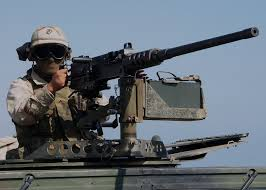gun: (58, 25, 260, 123)
